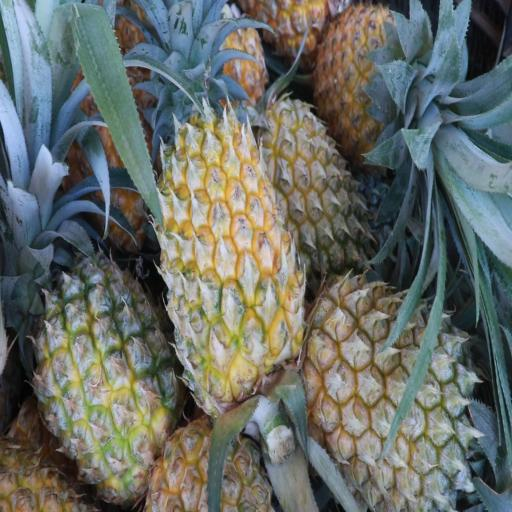Pineapple - v8 v1: (156, 113, 306, 409), (36, 262, 176, 497), (312, 2, 412, 150)
